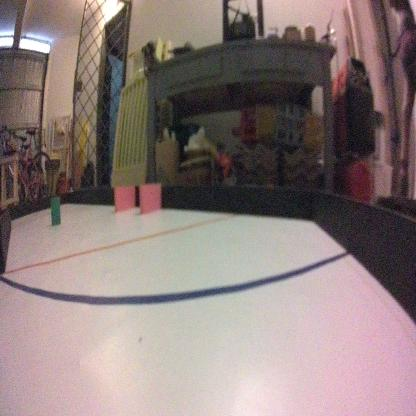green: (50, 192, 62, 223)
magenta: (138, 183, 160, 215), (114, 183, 135, 211)
